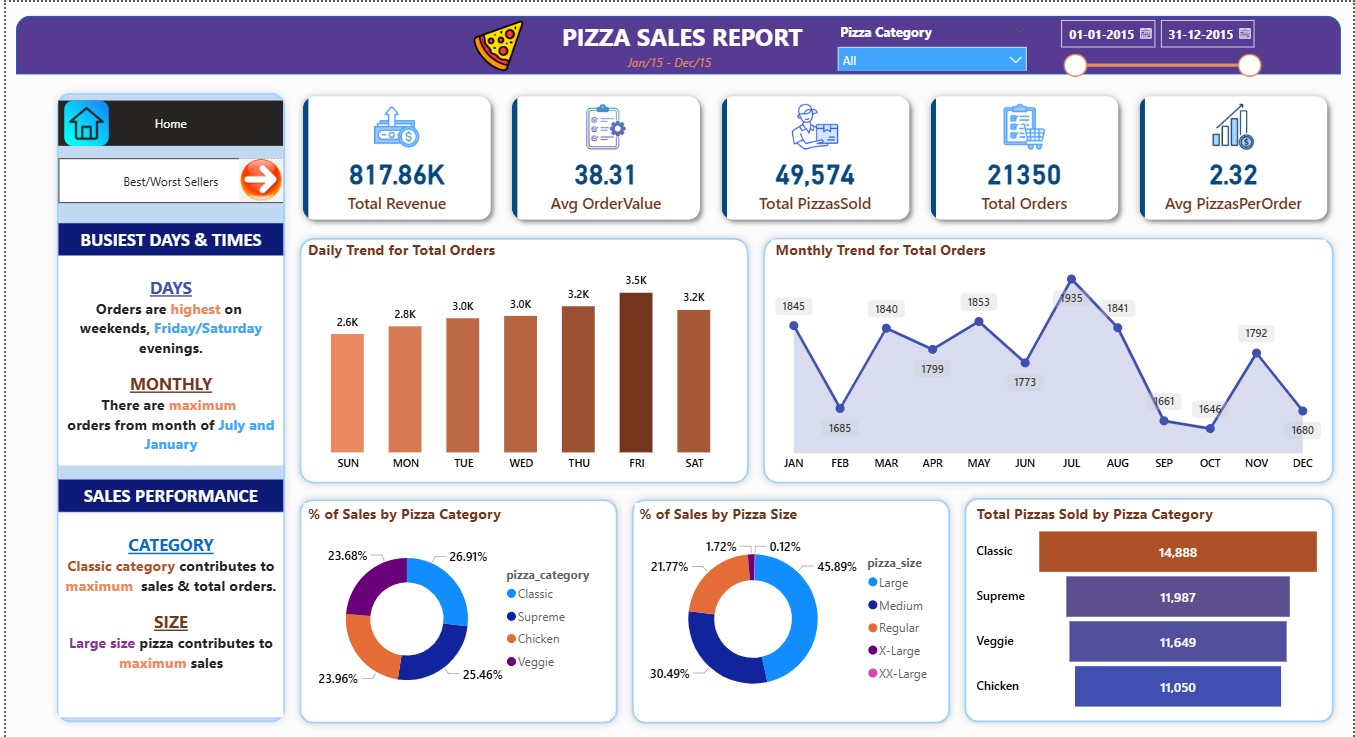

Layout of this report page (visuals, bound fields, positions):
{"tool":"powerbi","page":{"name":"Home","canvas":[1500,820],"ordinal":0},"visuals":[{"type":"shape","box":[48.7,93.3,270.2,717.2],"z":0},{"type":"cardVisual","fields":{"Data":["pizza_sales.Total Revenue","pizza_sales.Avg OrderValue","pizza_sales.Total PizzasSold","pizza_sales.Total Orders","pizza_sales.Avg PizzasPerOrder"]},"box":[318.9,93.3,1168.5,161.5],"z":1000},{"type":"shape","box":[11.1,15.3,1476.2,65.5],"z":2000},{"type":"textbox","box":[590.5,15.3,325.9,65.5],"z":3000},{"type":"textbox","box":[685.2,52.9,108.6,27.9],"z":4000},{"type":"shape","box":[318.9,254.9,516.7,289.7],"z":5000},{"type":"image","box":[519.5,20.9,58.5,55.7],"z":6000},{"type":"columnChart","title":"Daily Trend for Total Orders","fields":{"Y":["pizza_sales.Total Orders"],"Category":["pizza_sales.Order Day"]},"box":[331.5,264.6,486,267.4],"z":7000},{"type":"shape","box":[835.6,254.9,651.8,289.7],"z":8000},{"type":"shape","box":[318.9,545.9,370.5,266],"z":9000},{"type":"areaChart","title":"Monthly Trend for Total Orders","fields":{"Category":["pizza_sales.Order Month"],"Y":["pizza_sales.Total Orders"]},"box":[852.3,264.6,618.3,267.4],"z":10000},{"type":"shape","box":[689.4,545.9,370.5,266],"z":11000},{"type":"shape","box":[1059.8,544.5,427.5,266],"z":12000},{"type":"donutChart","title":"% of Sales by Pizza Category","fields":{"Y":["pizza_sales.Total Revenue"],"Category":["pizza_sales.pizza_category"]},"box":[331.5,558.5,339.8,236.8],"z":13000},{"type":"donutChart","title":"% of Sales by Pizza Size","fields":{"Y":["pizza_sales.Total Revenue"],"Category":["pizza_sales.pizza_size"]},"box":[700.5,558.5,344,236.8],"z":14000},{"type":"textbox","box":[58.5,246.5,250.7,36.2],"z":15000},{"type":"funnel","title":"Total Pizzas Sold by Pizza Category","fields":{"Y":["pizza_sales.Total PizzasSold"],"Category":["pizza_sales.pizza_category"]},"box":[1076.5,558.5,394.1,236.8],"z":16000},{"type":"textbox","box":[58.5,282.7,250.7,234],"z":17000},{"type":"textbox","box":[58.5,532,250.7,36.2],"z":18000},{"type":"textbox","box":[58.5,569.6,250.7,227],"z":19000},{"type":"slicer","fields":{"Values":["pizza_sales.pizza_category"]},"box":[916.4,18.1,231.2,58.5],"z":20000},{"type":"slicer","fields":{"Values":["pizza_sales.order_date"]},"box":[1162.9,9.7,243.7,75.2],"z":21000},{"type":"pageNavigator","box":[58.5,110,250.7,50.1],"z":21001},{"type":"pageNavigator","box":[58.5,174.1,250.7,50.1],"z":21002},{"type":"image","box":[259,174.1,50.1,48.7],"z":21004},{"type":"image","box":[58.5,110,62.7,50.1],"z":21005}]}

Visuals, with their boxes in screenshot pixels (x1, y1, x2, y2), scaled from the page's 1500x820 canvas onto the 1355x737 screenshot:
shape: {"left": 44, "top": 84, "right": 288, "bottom": 728}
cardVisual - pizza_sales.Total Revenue x pizza_sales.Avg OrderValue: {"left": 288, "top": 84, "right": 1344, "bottom": 229}
shape: {"left": 10, "top": 14, "right": 1344, "bottom": 73}
textbox: {"left": 533, "top": 14, "right": 828, "bottom": 73}
textbox: {"left": 619, "top": 48, "right": 717, "bottom": 73}
shape: {"left": 288, "top": 229, "right": 755, "bottom": 489}
image: {"left": 469, "top": 19, "right": 522, "bottom": 69}
"Daily Trend for Total Orders" columnChart: {"left": 299, "top": 238, "right": 738, "bottom": 478}
shape: {"left": 755, "top": 229, "right": 1344, "bottom": 489}
shape: {"left": 288, "top": 491, "right": 623, "bottom": 730}
"Monthly Trend for Total Orders" areaChart: {"left": 770, "top": 238, "right": 1328, "bottom": 478}
shape: {"left": 623, "top": 491, "right": 957, "bottom": 730}
shape: {"left": 957, "top": 489, "right": 1344, "bottom": 728}
"% of Sales by Pizza Category" donutChart: {"left": 299, "top": 502, "right": 606, "bottom": 715}
"% of Sales by Pizza Size" donutChart: {"left": 633, "top": 502, "right": 944, "bottom": 715}
textbox: {"left": 53, "top": 222, "right": 279, "bottom": 254}
"Total Pizzas Sold by Pizza Category" funnel: {"left": 972, "top": 502, "right": 1328, "bottom": 715}
textbox: {"left": 53, "top": 254, "right": 279, "bottom": 464}
textbox: {"left": 53, "top": 478, "right": 279, "bottom": 511}
textbox: {"left": 53, "top": 512, "right": 279, "bottom": 716}
slicer - pizza_sales.pizza_category: {"left": 828, "top": 16, "right": 1037, "bottom": 69}
slicer - pizza_sales.order_date: {"left": 1050, "top": 9, "right": 1271, "bottom": 76}
pageNavigator: {"left": 53, "top": 99, "right": 279, "bottom": 144}
pageNavigator: {"left": 53, "top": 156, "right": 279, "bottom": 202}
image: {"left": 234, "top": 156, "right": 279, "bottom": 200}
image: {"left": 53, "top": 99, "right": 109, "bottom": 144}
